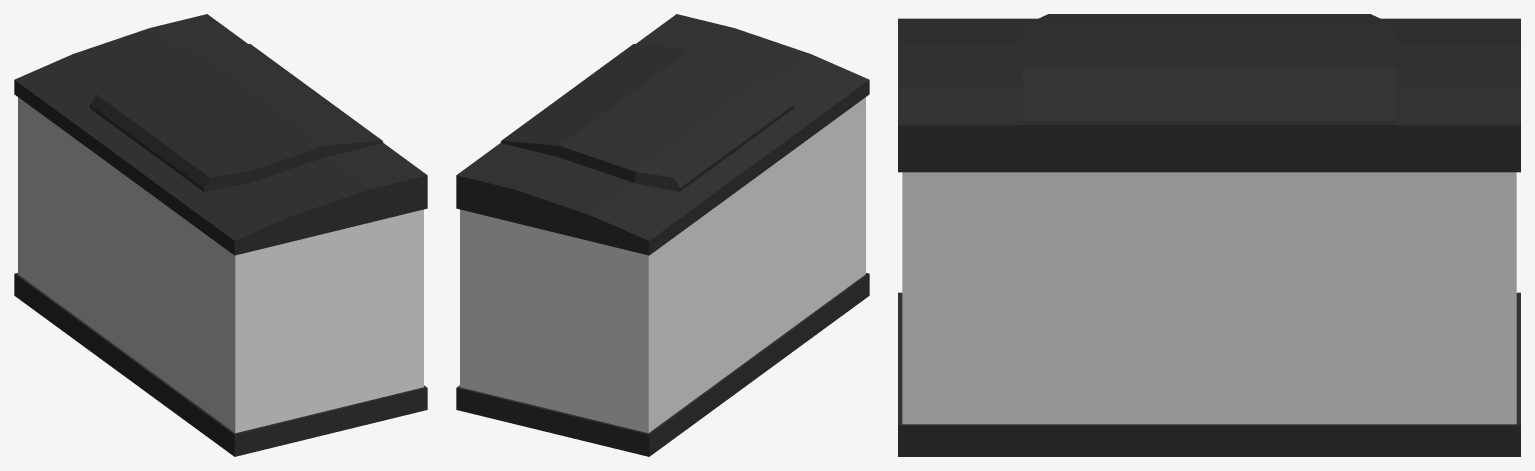
Rendered from 水族箱.glb.
3 views of the same model, side by side, from view 1: azimuth 30°, elevation 25°; view 2: azimuth 150°, elevation 25°; view 3: azimuth 270°, elevation 25° (orthographic). The views are drawn at different scales.
Visible parts, largest first — view 1: Fish_Tank_Cube.003; view 2: Fish_Tank_Cube.003; view 3: Fish_Tank_Cube.003.
Part boxes in pixels (left/top/right/bottom): Fish_Tank_Cube.003: left=14, top=14, right=427, bottom=456; Fish_Tank_Cube.003: left=456, top=14, right=869, bottom=456; Fish_Tank_Cube.003: left=898, top=14, right=1520, bottom=456.
Bounding box in the file's own units: 1.29 × 1.57 × 2.55.
Materials: 4 (4 with a texture image).
